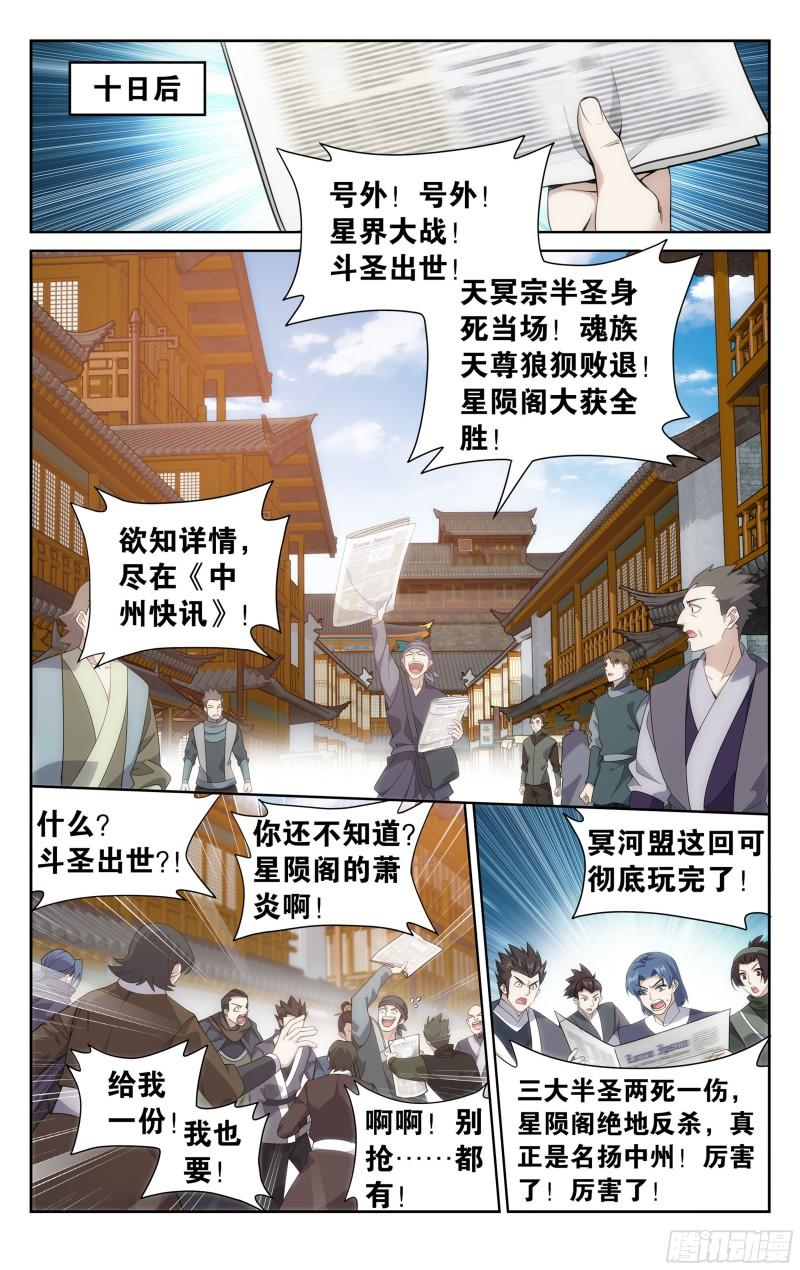boxBomb: (453, 269, 699, 482), (489, 1030, 771, 1213), (60, 479, 291, 673), (273, 134, 495, 284), (228, 793, 444, 940), (558, 802, 767, 931), (27, 784, 225, 913), (339, 1072, 498, 1213), (67, 1039, 179, 1151), (177, 1099, 273, 1207)
boxCube: (63, 53, 210, 119)
minBox: (24, 242, 774, 817), (21, 781, 504, 1219), (24, 32, 774, 236), (465, 793, 777, 1219)
